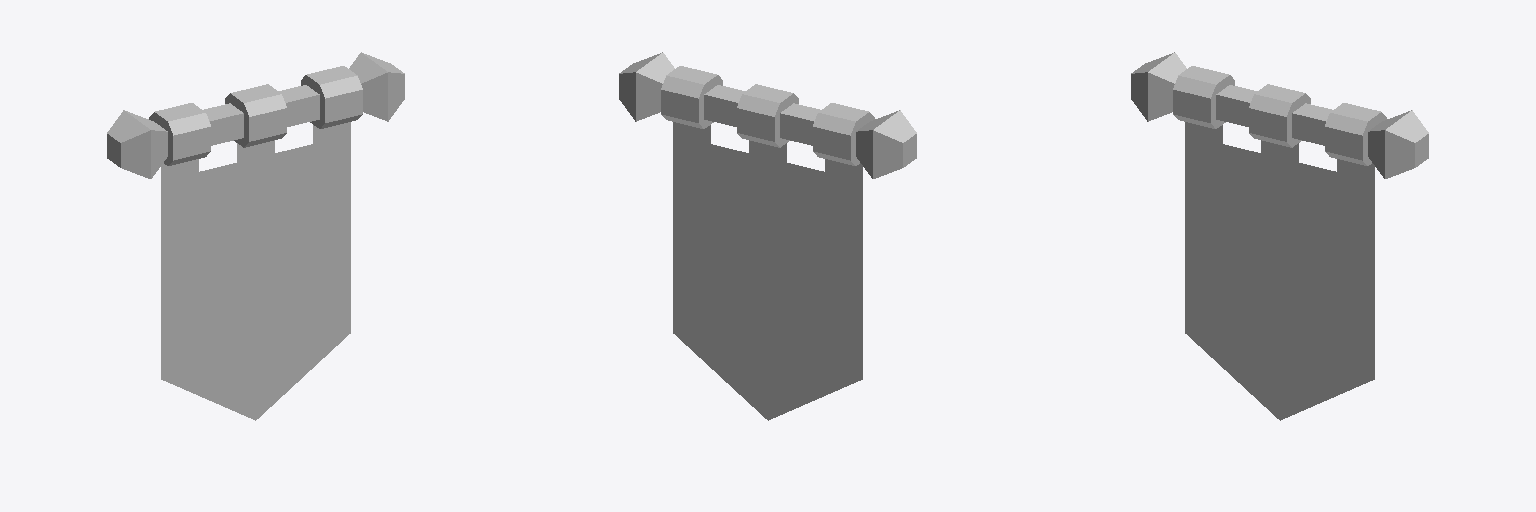
Rendered from banner.obj.
3 renders of one model, left to right at view 1: azimuth 30°, elevation 25°; view 2: azimuth 150°, elevation 25°; view 3: azimuth 330°, elevation 25°, orthographic.
Visible parts, largest first — view 1: banner; view 2: banner; view 3: banner.
Boxes of the visible parts, <box> form: banner: <box>107,52,404,420</box>; banner: <box>619,52,916,420</box>; banner: <box>1131,52,1428,420</box>.
Bounding box in the file's own units: 0.6 × 0.6644 × 0.1.